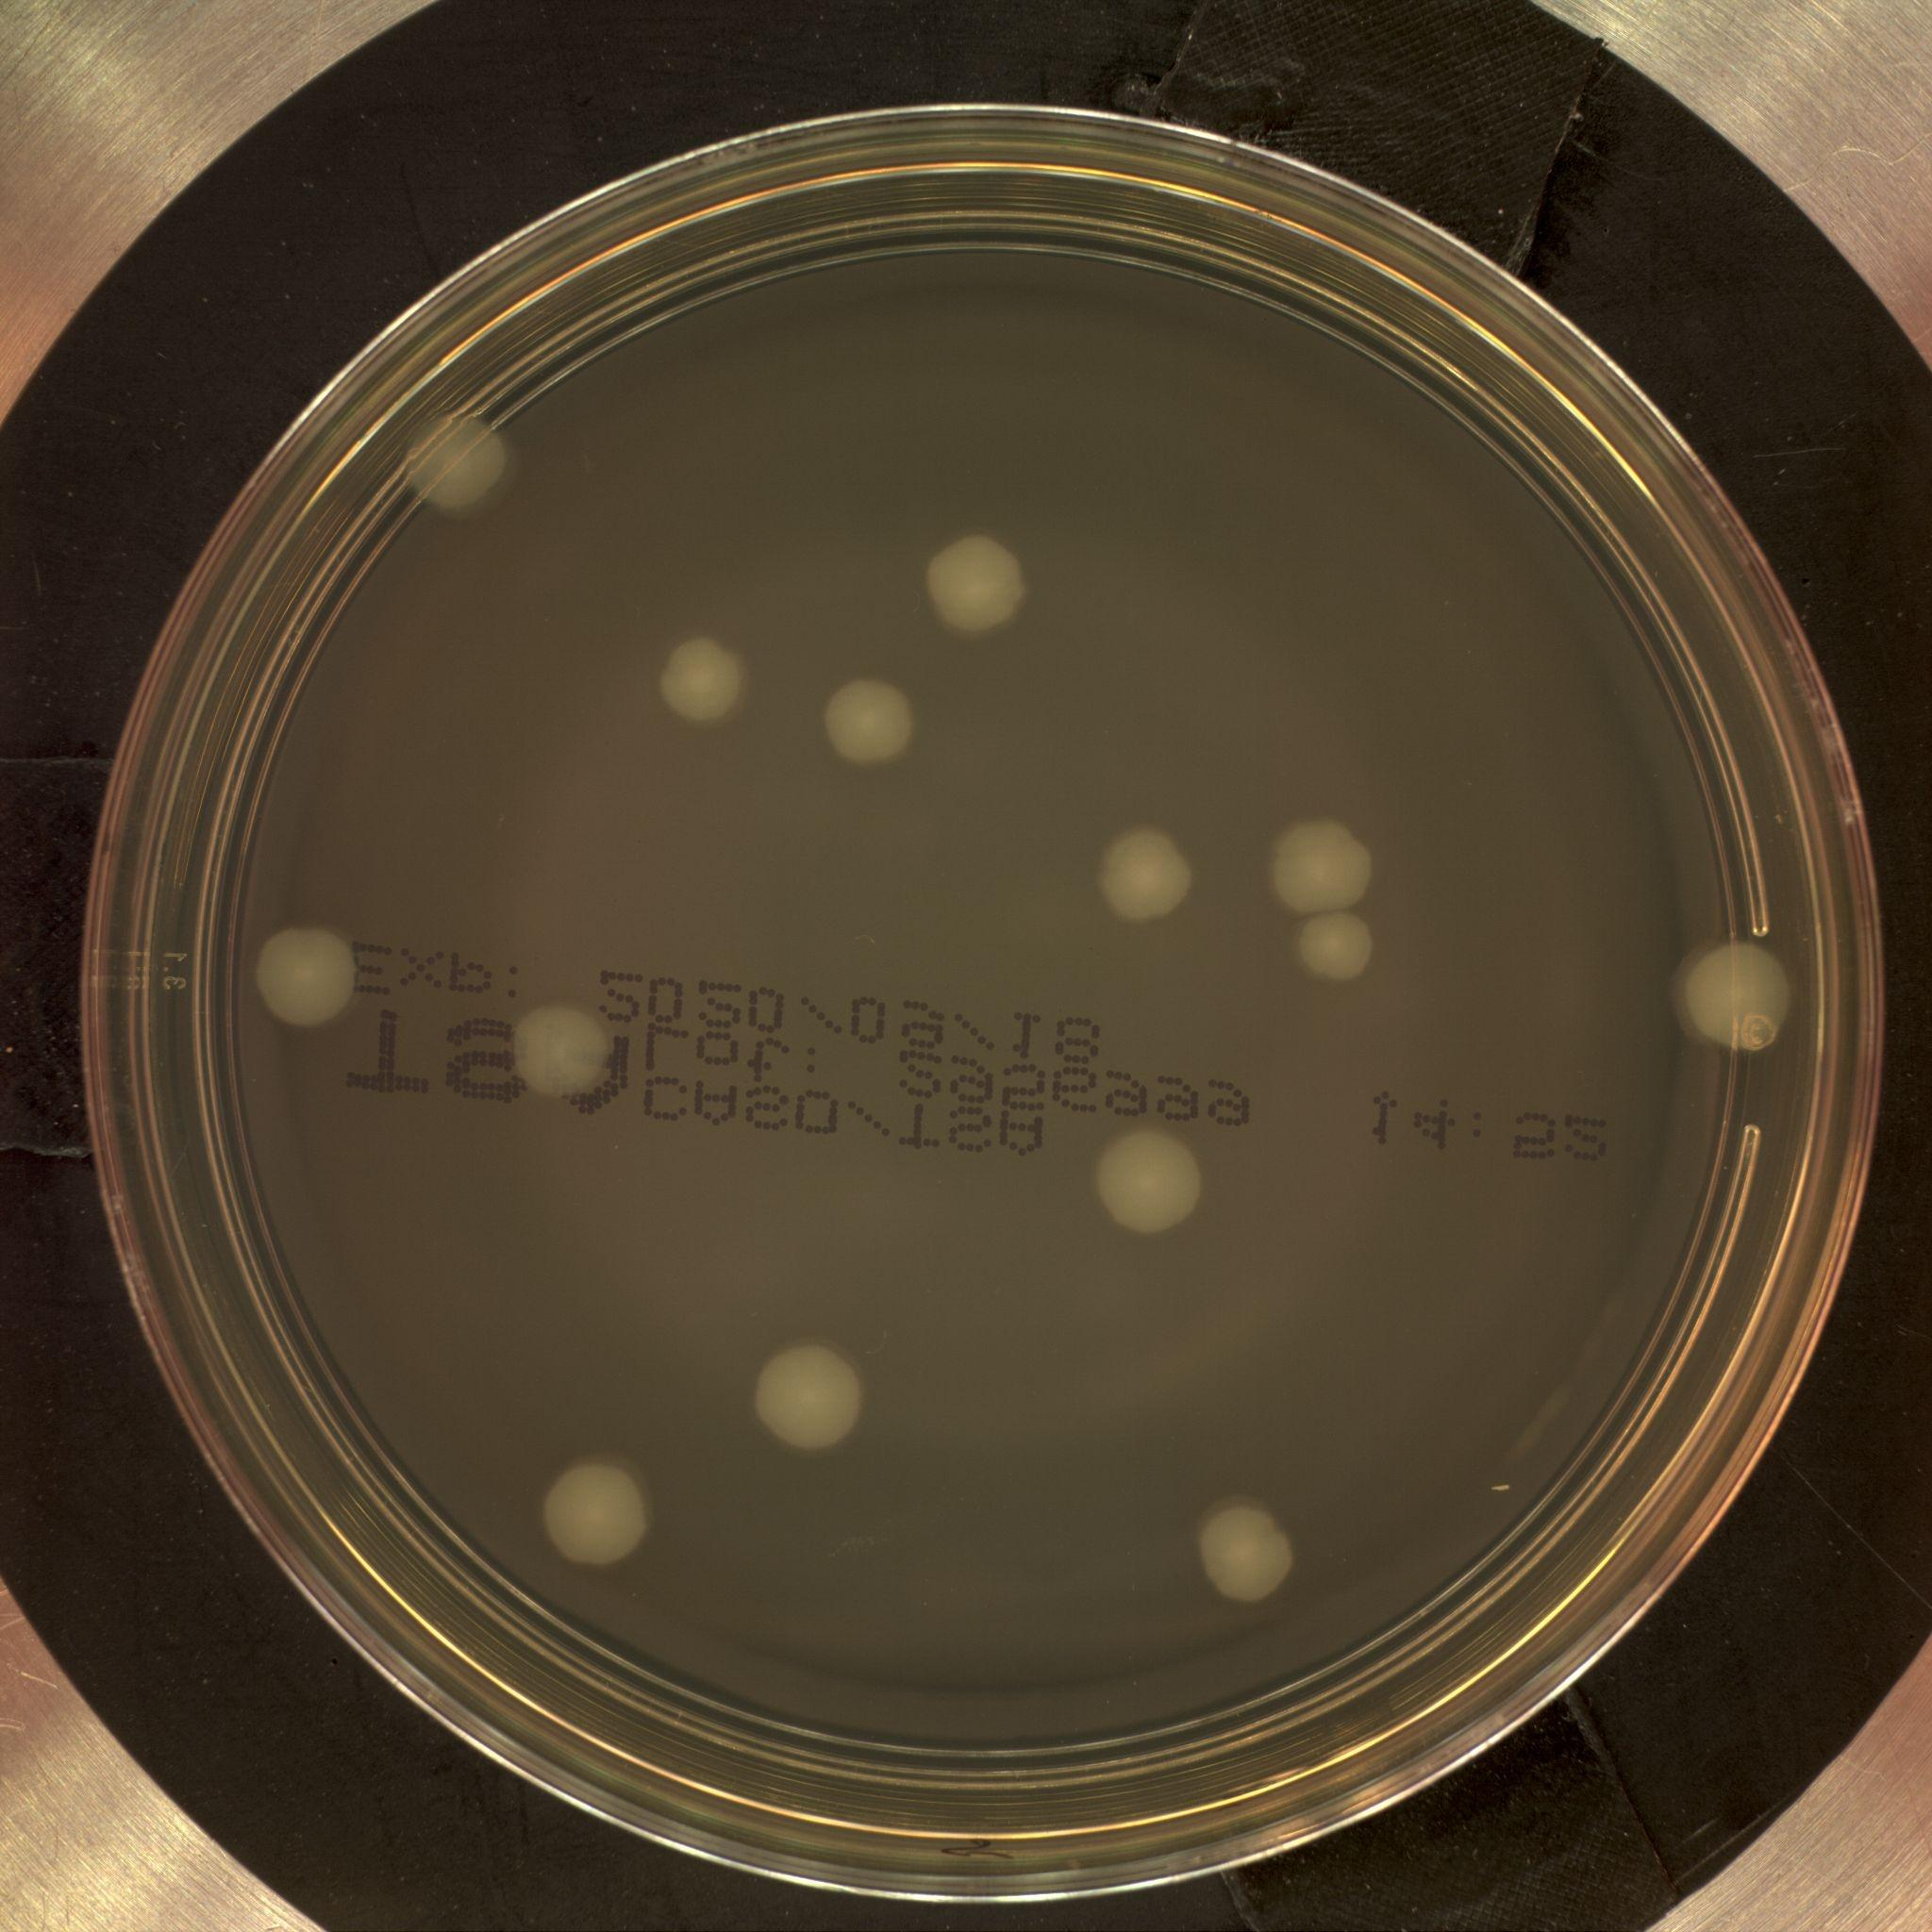e. coli: (539, 1453, 652, 1566), (753, 1342, 869, 1450), (1680, 946, 1790, 1059), (403, 408, 510, 516), (1193, 1507, 1306, 1607), (1098, 1125, 1203, 1226), (253, 924, 357, 1025), (1098, 827, 1196, 927), (510, 1000, 614, 1094), (1269, 821, 1372, 915), (825, 673, 922, 771), (928, 528, 1024, 625), (656, 632, 746, 724), (1296, 899, 1378, 981)
